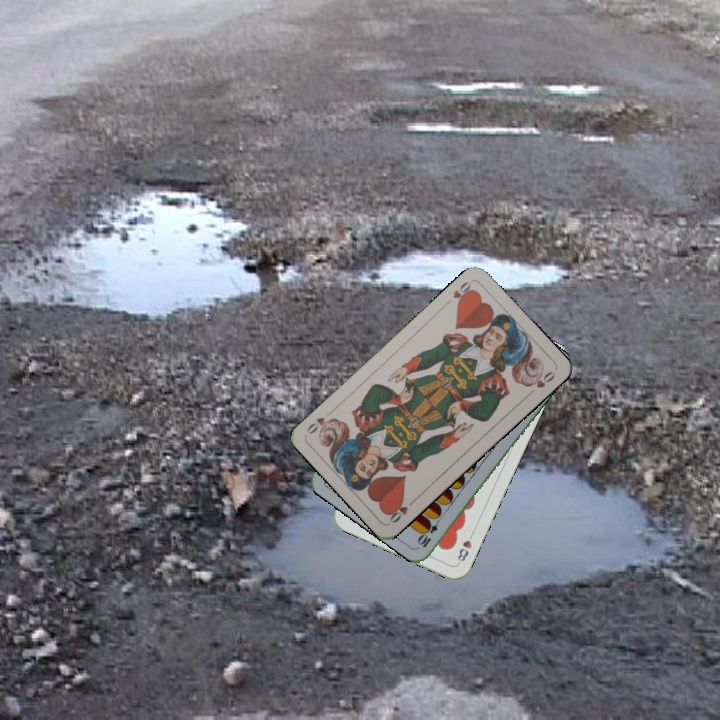E10: (414, 512, 444, 550)
H8: (453, 528, 476, 566)
HO: (385, 494, 419, 526), (441, 277, 476, 308)
